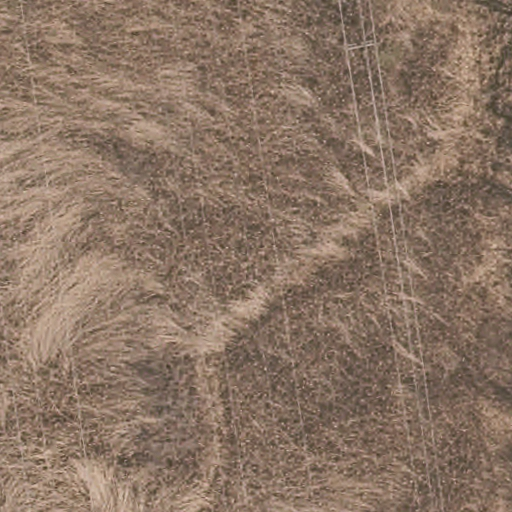DT: (329, 33, 383, 58)
